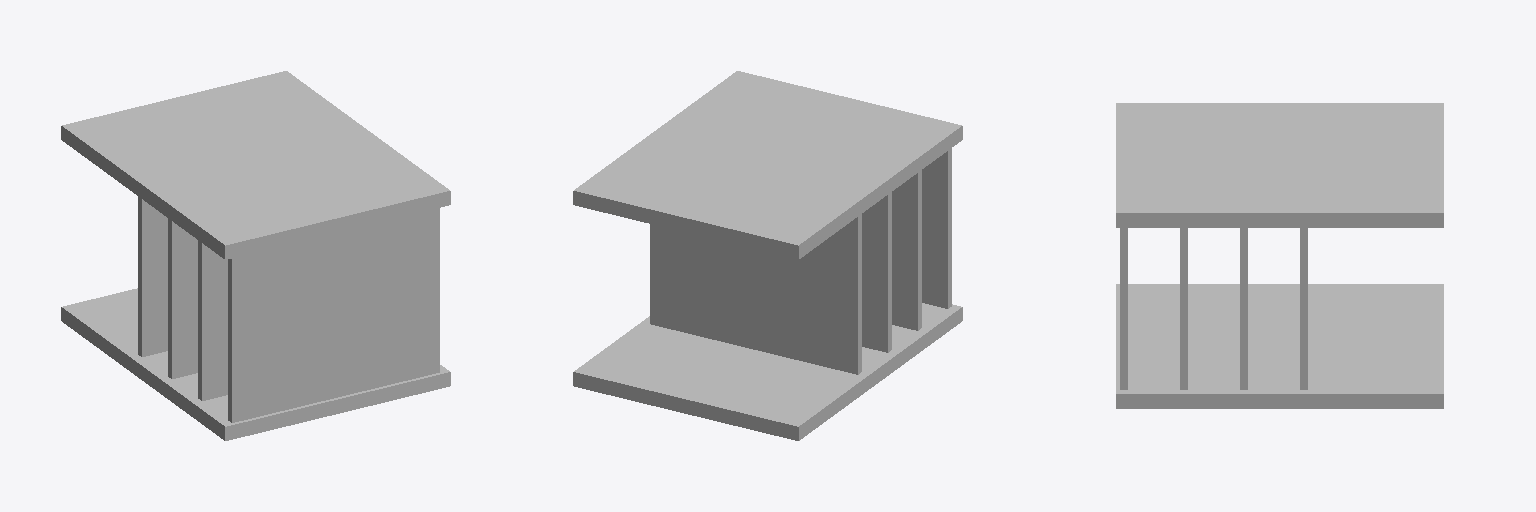
File: bookshelf_tall.obj
3 renders of one model, left to right at view 1: azimuth 30°, elevation 25°; view 2: azimuth 150°, elevation 25°; view 3: azimuth 270°, elevation 25°, orthographic.
Parts seen in each view (by area): view 1: side_left, shelf_top, side_right, shelf_middle_top, shelf_middle_bottom, shelf_bottom; view 2: side_left, shelf_bottom, side_right, shelf_top, shelf_middle_bottom, shelf_middle_top; view 3: side_left, side_right, shelf_bottom, shelf_middle_bottom, shelf_middle_top, shelf_top.
Part boxes in pixels (left/top/right/bottom): side_left: left=61, top=71, right=450, bottom=259; shelf_top: left=228, top=208, right=439, bottom=422; side_right: left=61, top=288, right=450, bottom=440; shelf_middle_top: left=198, top=240, right=227, bottom=400; shelf_middle_bottom: left=168, top=218, right=197, bottom=378; shelf_bottom: left=138, top=196, right=167, bottom=356; side_left: left=573, top=71, right=962, bottom=259; shelf_bottom: left=650, top=214, right=861, bottom=374; side_right: left=573, top=303, right=962, bottom=440; shelf_top: left=922, top=148, right=951, bottom=308; shelf_middle_bottom: left=862, top=192, right=891, bottom=352; shelf_middle_top: left=892, top=170, right=921, bottom=330; side_left: left=1116, top=103, right=1443, bottom=227; side_right: left=1116, top=284, right=1443, bottom=408; shelf_bottom: left=1300, top=228, right=1307, bottom=389; shelf_middle_bottom: left=1240, top=228, right=1247, bottom=389; shelf_middle_top: left=1180, top=228, right=1187, bottom=389; shelf_top: left=1120, top=228, right=1127, bottom=389.
Size of the model in its own units: 1.3 by 1.08 by 1.64.